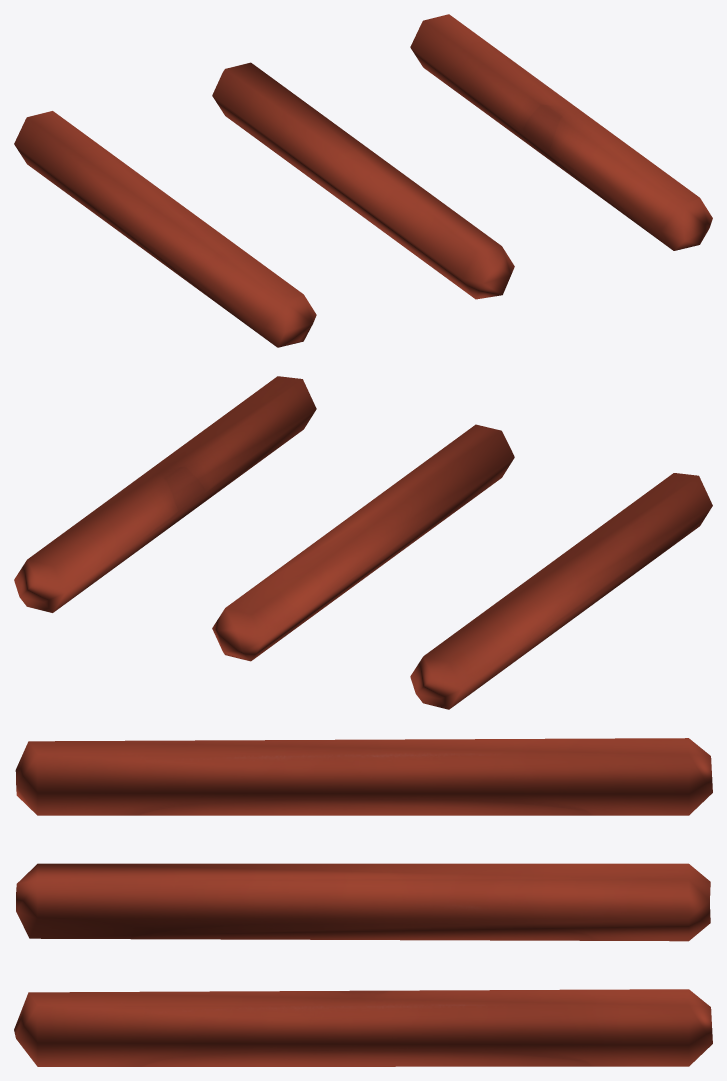
The model's file is CarritoPanchos_salchicha.fbx.
The picture shows the model from 3 angles, top to bottom: view 1: azimuth 30°, elevation 25°; view 2: azimuth 150°, elevation 25°; view 3: azimuth 270°, elevation 25°; orthographic projection. The views are drawn at different scales.
Parts seen in each view (by area): view 1: Civ_CarritoPanchos_salchicha; view 2: Civ_CarritoPanchos_salchicha; view 3: Civ_CarritoPanchos_salchicha.
Boxes of the visible parts, x1,y1,x2,y2 form: Civ_CarritoPanchos_salchicha: (14,14,712,347); Civ_CarritoPanchos_salchicha: (14,376,712,709); Civ_CarritoPanchos_salchicha: (14,738,712,1066).
Bounding box in the file's own units: 0.9696 × 0.0976 × 1.01.
